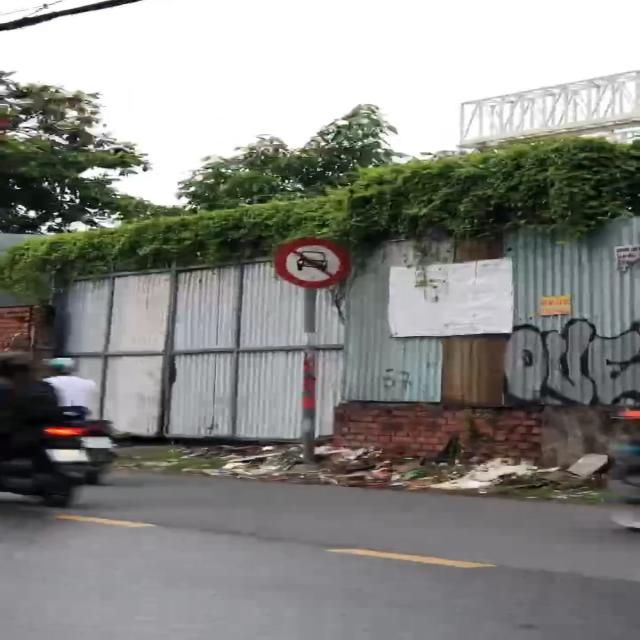Bien bao cam xe oto: (272, 237, 357, 287)
